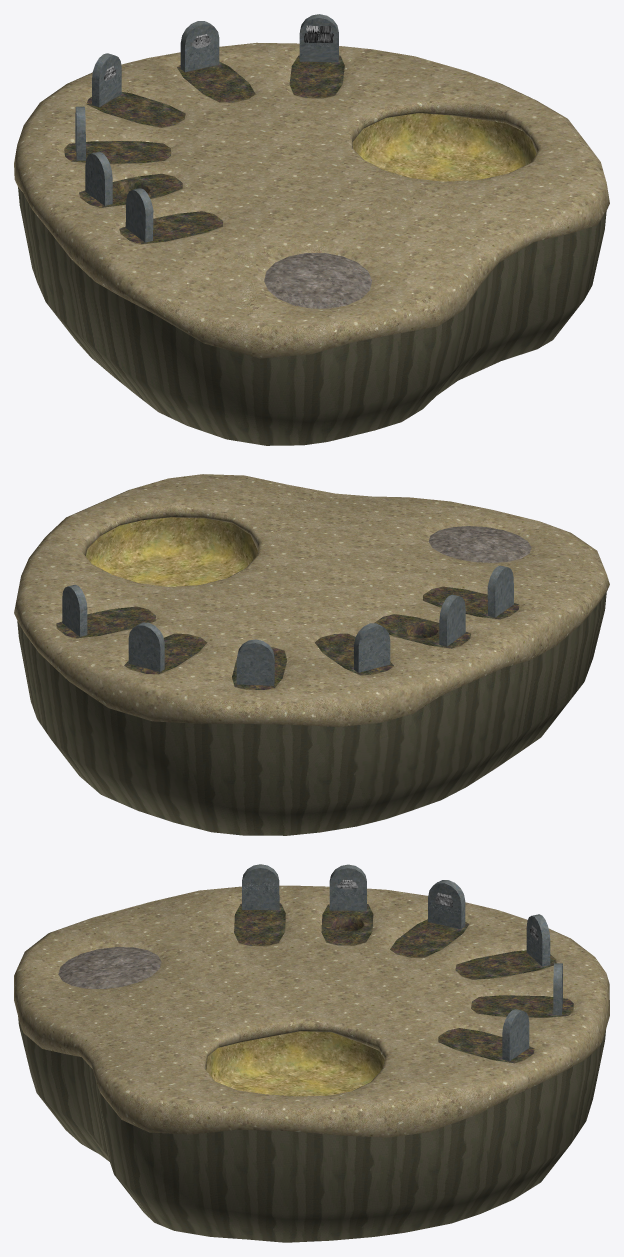
Rendered from DeathParadePlanet.fbx.
3 views of the same model, one above another, from view 1: azimuth 30°, elevation 25°; view 2: azimuth 150°, elevation 25°; view 3: azimuth 270°, elevation 25° (orthographic). The views are drawn at different scales.
Parts seen in each view (by area): view 1: DeathParadePlanet; view 2: DeathParadePlanet; view 3: DeathParadePlanet.
Boxes of the visible parts, bbox=[...] form: DeathParadePlanet: bbox=[14, 14, 609, 445]; DeathParadePlanet: bbox=[14, 474, 609, 835]; DeathParadePlanet: bbox=[14, 864, 609, 1242].
Size of the model in its own units: 281278 by 119152 by 302681.
11 materials, 11 textured.
